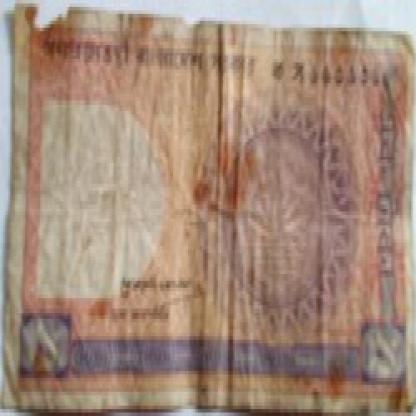One Taka: (23, 312, 70, 378), (362, 326, 402, 385)
